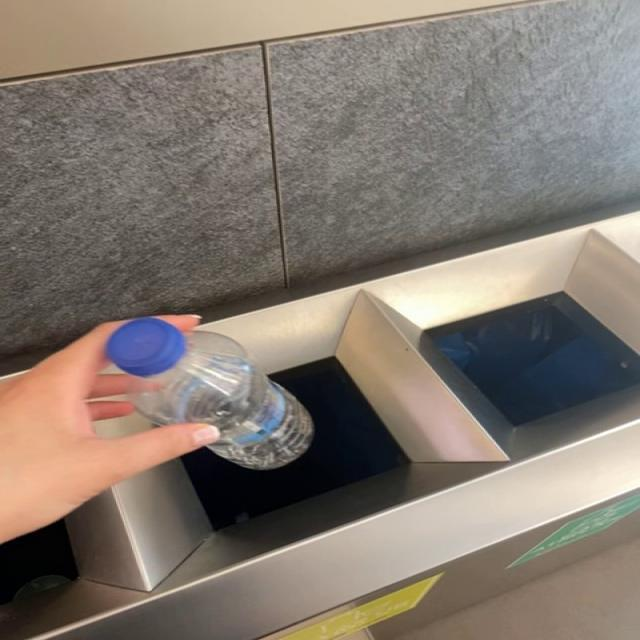Plastic: (105, 318, 313, 470)
